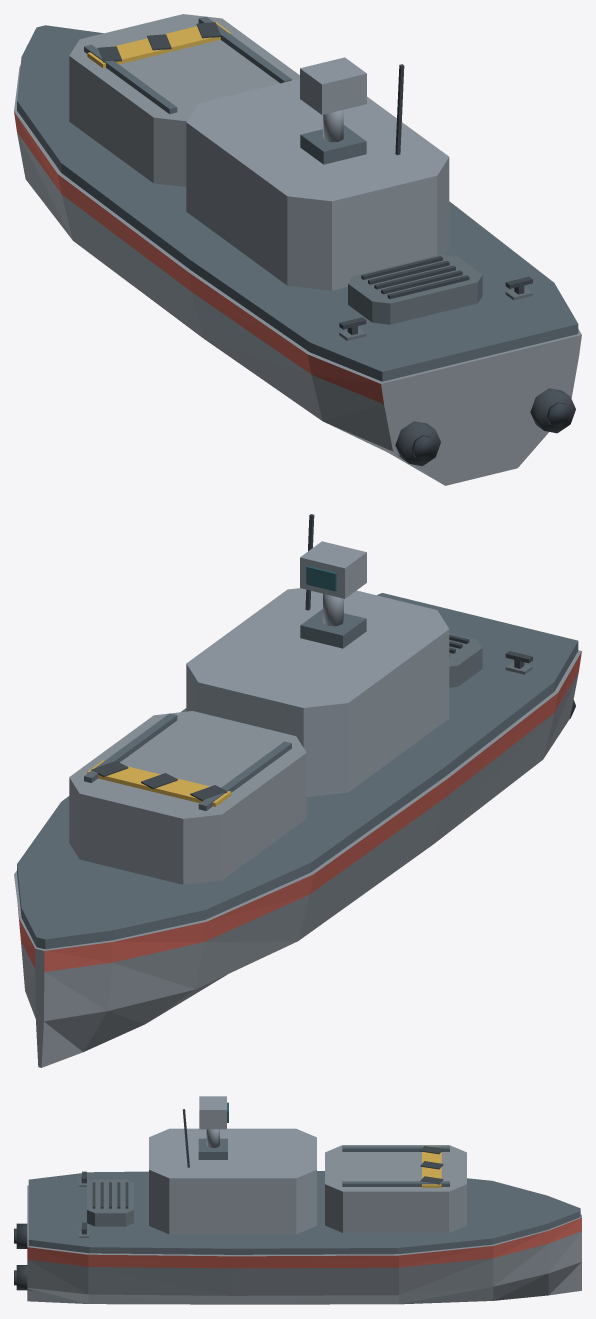
Rendered from EnemySuicideBoat.fbx.
The picture shows the model from 3 angles, top to bottom: view 1: azimuth 30°, elevation 25°; view 2: azimuth 150°, elevation 25°; view 3: azimuth 270°, elevation 25°; orthographic projection. The views are drawn at different scales.
Visible parts, largest first — view 1: EnemySuicideBoat_Visual, SensorPivot_Visual; view 2: EnemySuicideBoat_Visual, SensorPivot_Visual; view 3: EnemySuicideBoat_Visual, SensorPivot_Visual.
Part boxes in pixels (x1,y1,x2,y2): EnemySuicideBoat_Visual: [14, 14, 581, 485]; SensorPivot_Visual: [300, 57, 366, 114]; EnemySuicideBoat_Visual: [14, 514, 581, 1067]; SensorPivot_Visual: [300, 541, 366, 598]; EnemySuicideBoat_Visual: [14, 1109, 581, 1304]; SensorPivot_Visual: [199, 1096, 228, 1129].
Bounding box in the file's own units: 116 × 132 × 348.
